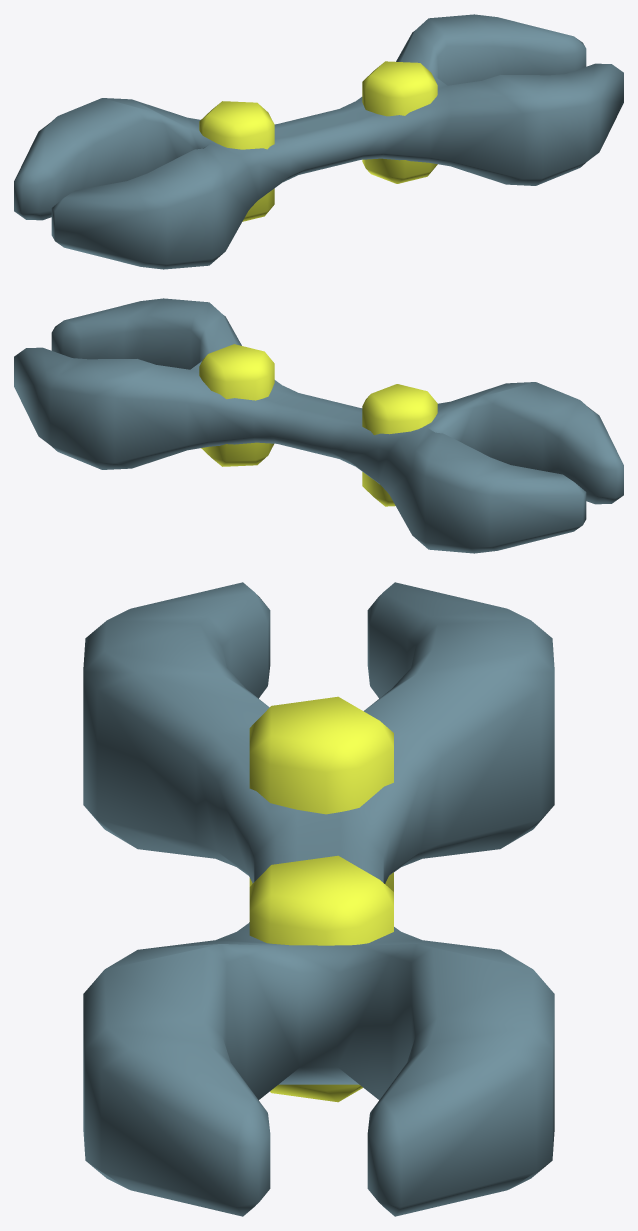
Rendered from rench.001.glb.
3 renders of one model, top to bottom at view 1: azimuth 30°, elevation 25°; view 2: azimuth 150°, elevation 25°; view 3: azimuth 270°, elevation 25°, orthographic. The views are drawn at different scales.
Parts seen in each view (by area): view 1: rench.001; view 2: rench.001; view 3: rench.001.
Boxes of the visible parts, x1=… form: rench.001: x1=14, y1=14, x2=623, y2=269; rench.001: x1=14, y1=298, x2=623, y2=553; rench.001: x1=83, y1=582, x2=554, y2=1216.
Bounding box in the file's own units: 3.03 × 0.5152 × 1.09.
